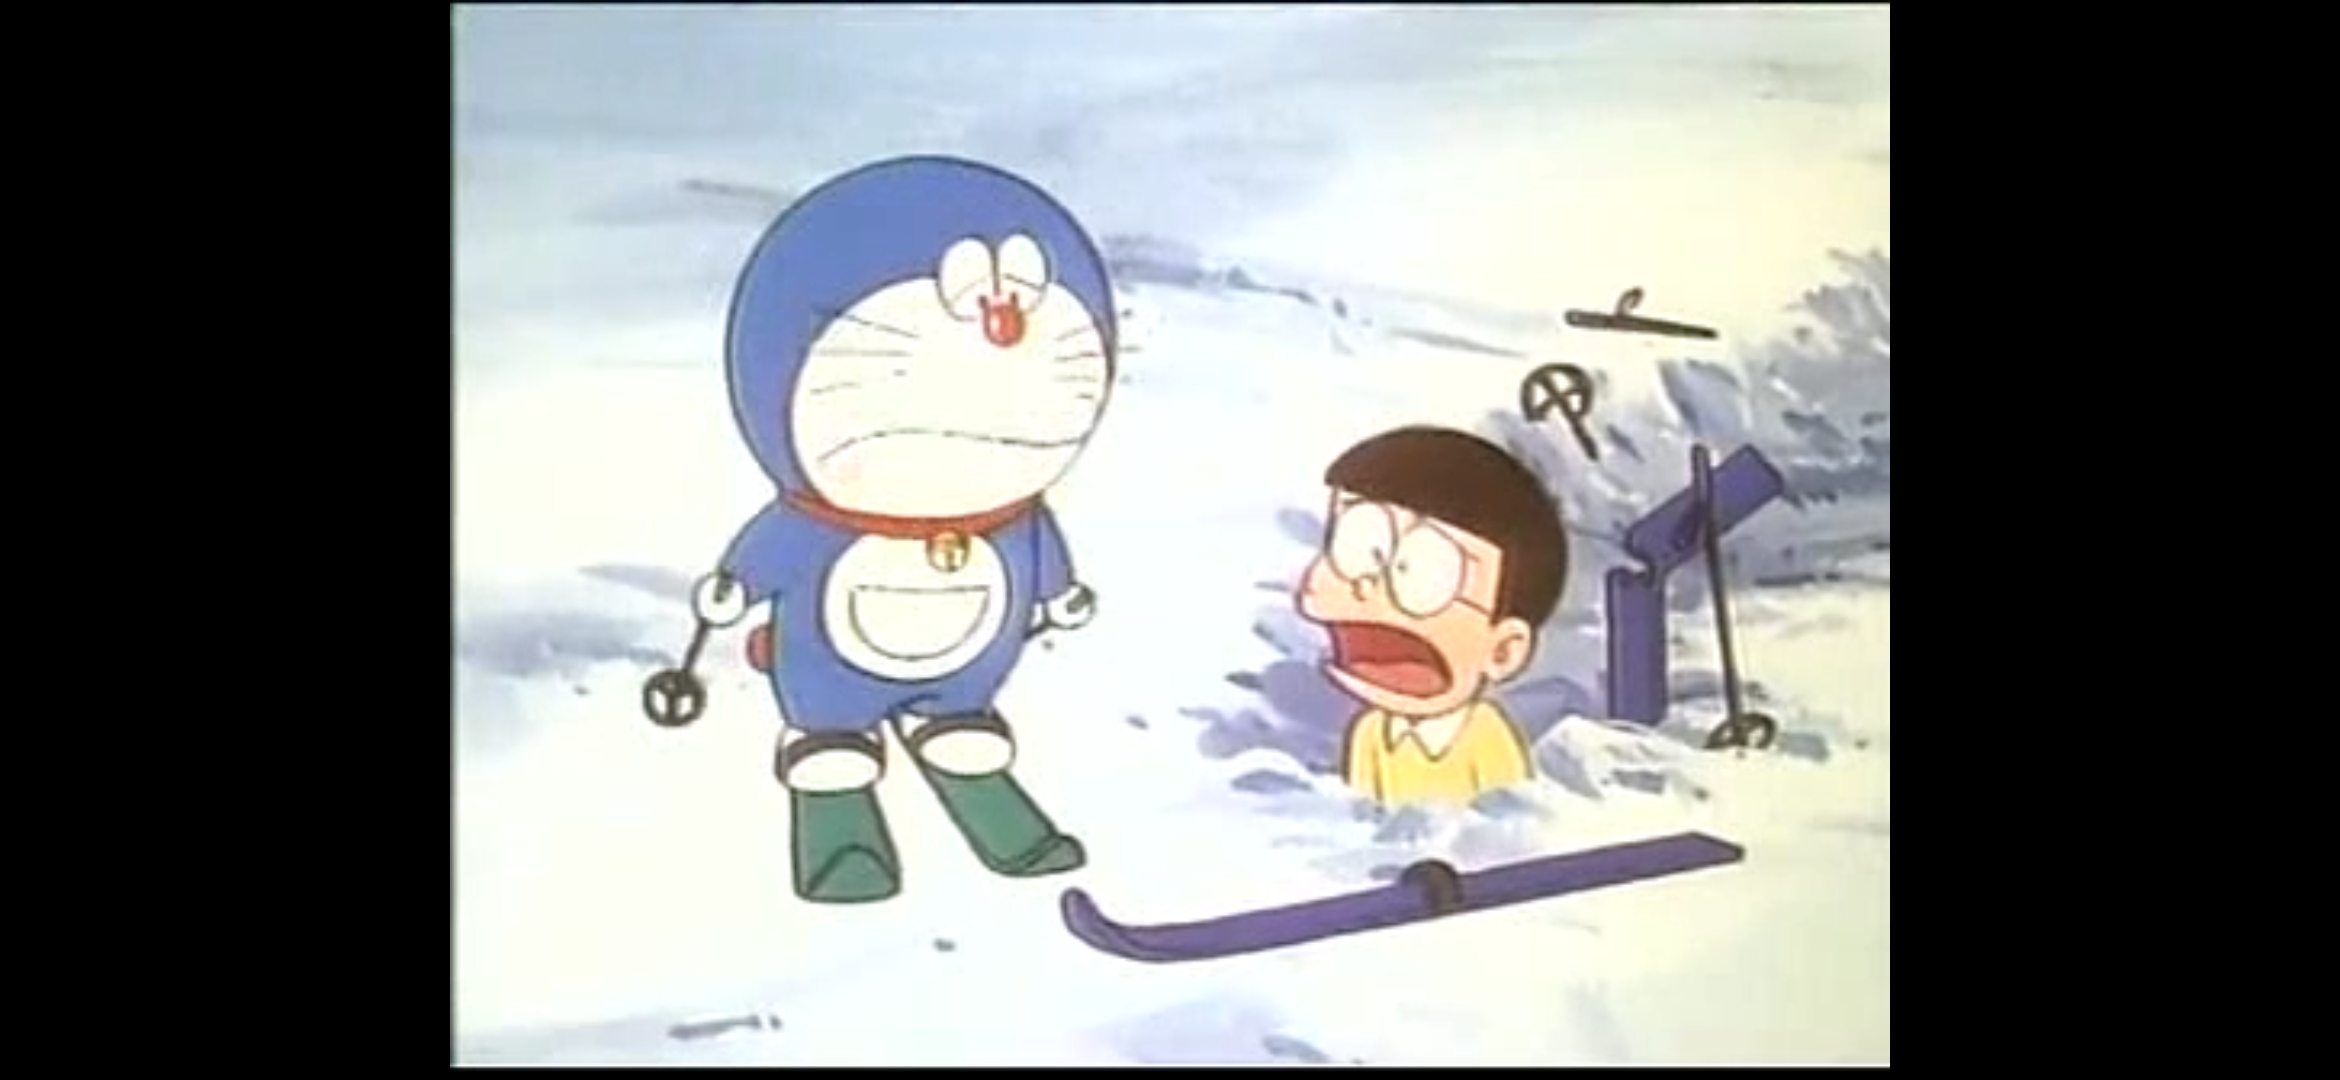Doraemon: (724, 154, 1113, 570)
Nobi: (1295, 427, 1564, 715)
